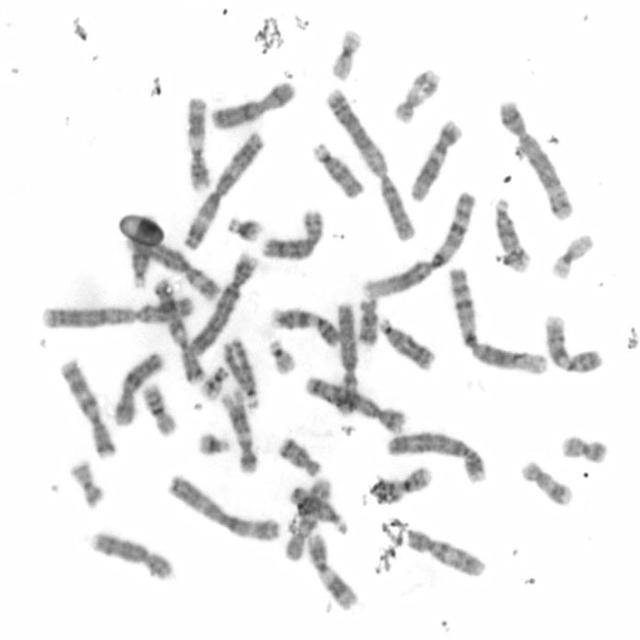A1: (358, 187, 479, 302), (446, 262, 549, 378)
A2: (322, 84, 417, 244), (36, 290, 196, 331)
A3: (179, 126, 266, 252), (165, 470, 282, 544)
B4: (177, 247, 259, 385), (384, 426, 489, 484)
B5: (496, 96, 576, 224), (301, 372, 406, 434)
C10: (280, 473, 334, 563), (402, 525, 488, 579)
C11: (304, 529, 361, 613), (183, 92, 212, 193)
C12: (406, 116, 464, 203), (219, 388, 260, 476)
C6: (125, 235, 222, 302), (332, 298, 360, 417)
C7: (56, 356, 118, 460), (150, 274, 206, 386)
C8: (88, 526, 176, 583), (258, 206, 326, 262)
C9: (542, 310, 604, 376), (267, 303, 340, 349)
D13: (376, 314, 436, 372), (219, 334, 261, 410)
D14: (490, 192, 532, 272), (130, 215, 158, 290)
D15: (309, 138, 366, 202), (286, 482, 348, 536)
E16: (373, 465, 432, 505), (140, 380, 179, 438)
E17: (390, 65, 442, 126), (518, 456, 574, 508)
E18: (274, 432, 322, 478), (355, 293, 380, 348)
F19: (546, 229, 596, 281), (326, 26, 364, 82)
F20: (66, 457, 106, 510), (557, 431, 610, 466)
G21: (222, 211, 264, 244), (194, 428, 232, 458)
G22: (265, 334, 298, 377), (196, 362, 229, 401)
X: (208, 77, 298, 132), (110, 348, 165, 427)
